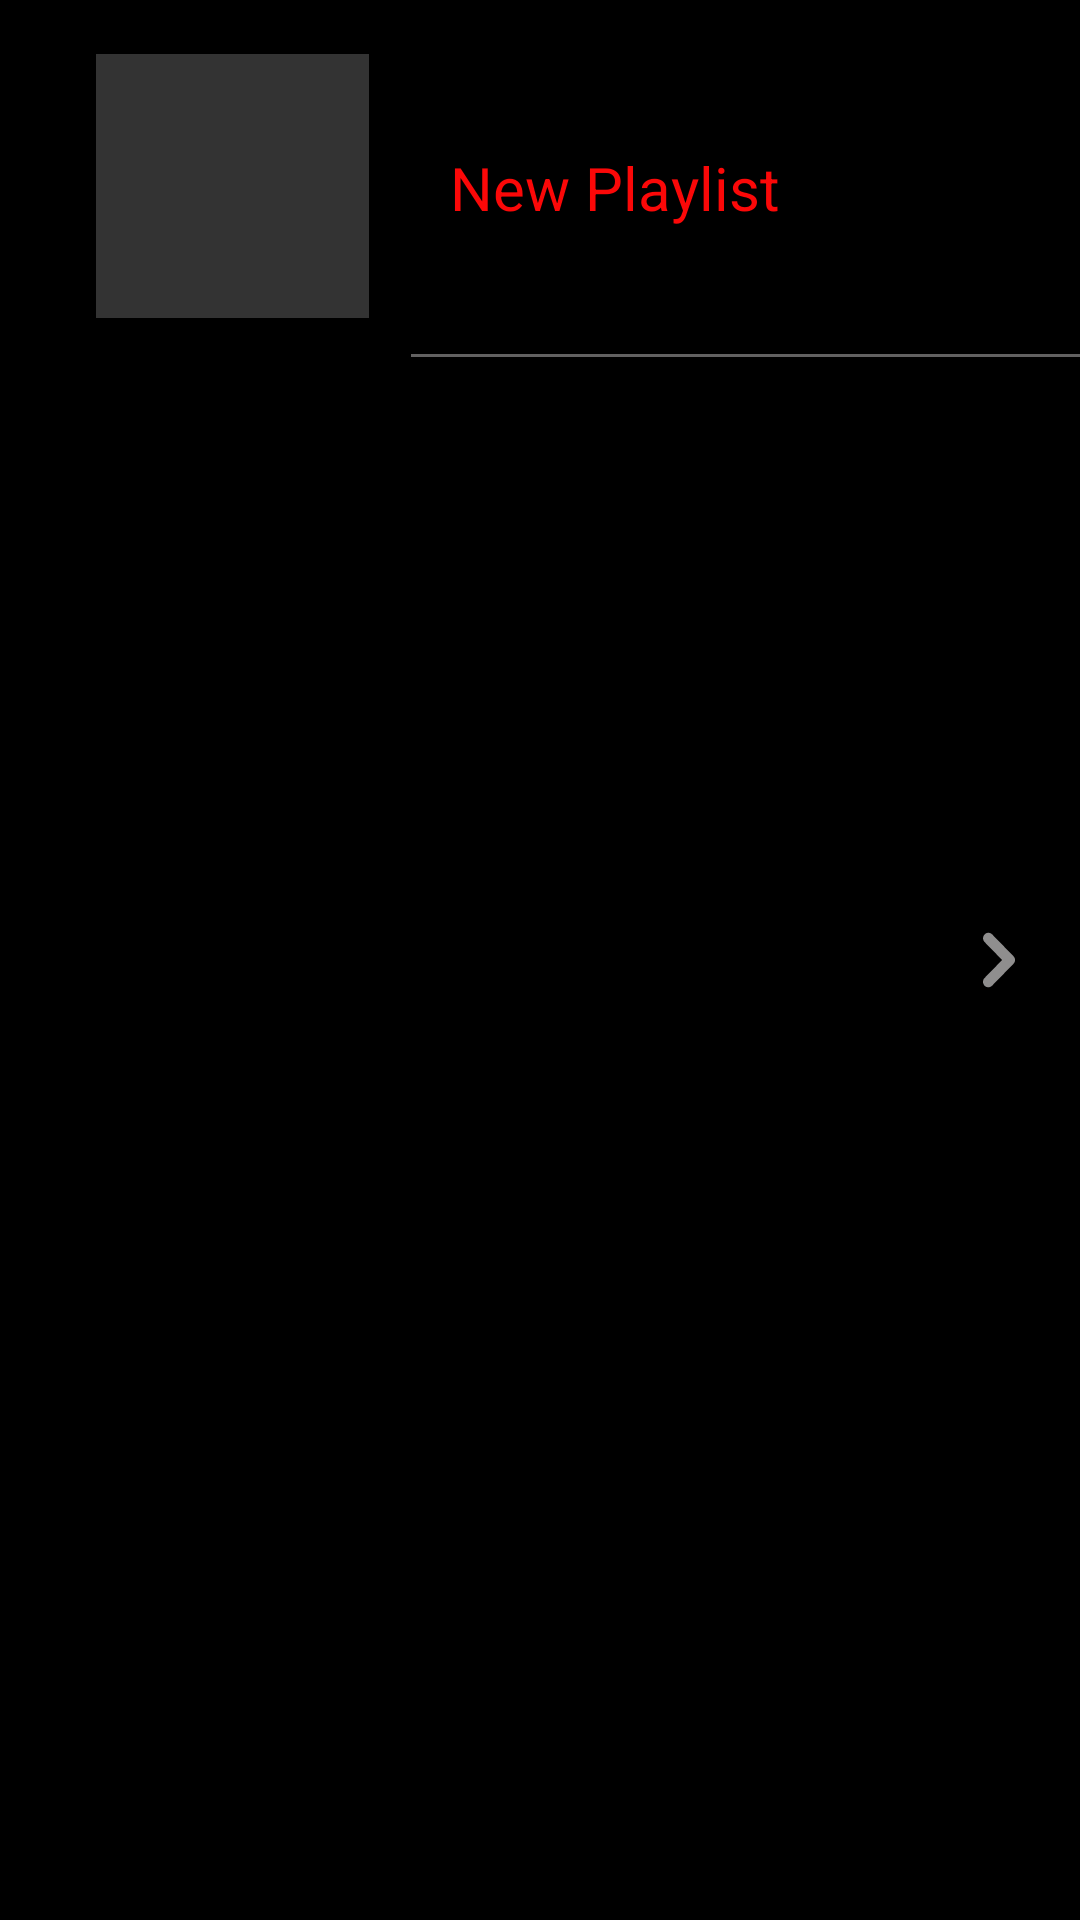

Point at icon controls on the screen. Image size 1080×1920, points as [x,y].
arrow: [999,960]
